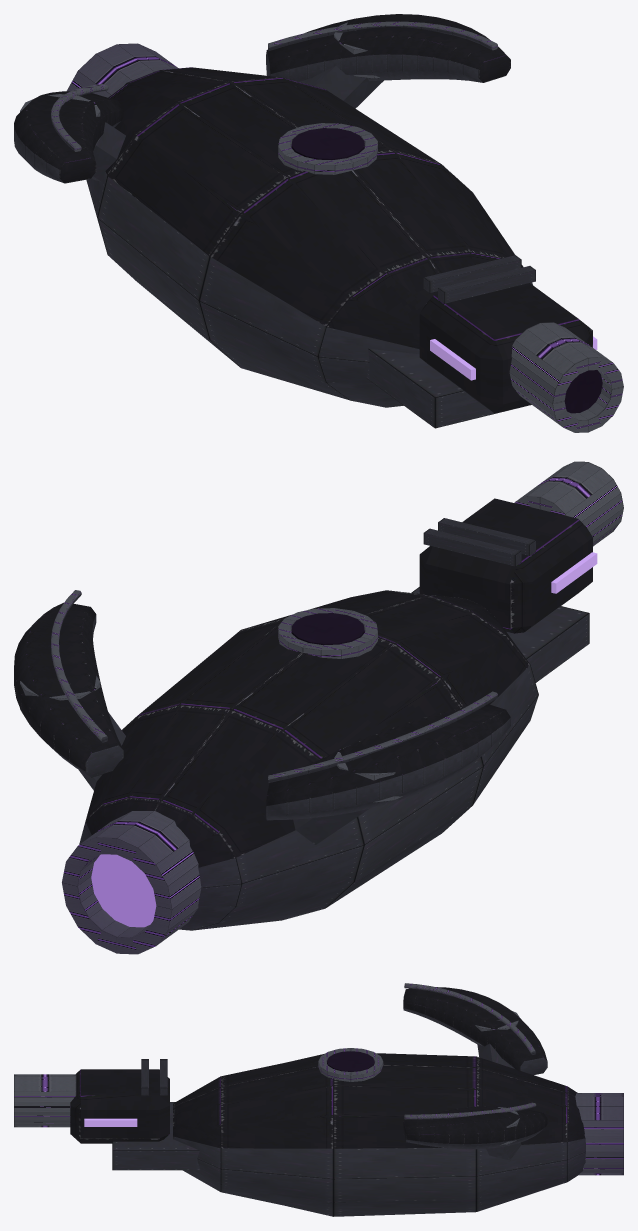
Rendered from pioneer-eris-l01-laser.glb.
3 renders of one model, top to bottom at view 1: azimuth 30°, elevation 25°; view 2: azimuth 150°, elevation 25°; view 3: azimuth 270°, elevation 25°, orthographic. The views are drawn at different scales.
Visible parts, largest first — view 1: Drone; view 2: Drone; view 3: Drone.
Part boxes in pixels (x1,y1,x2,y2): Drone: [14, 14, 623, 432]; Drone: [14, 461, 623, 954]; Drone: [14, 983, 623, 1216].
Size of the model in its own units: 0.7866 by 0.3952 by 1.41.
Materials: 3 (3 with a texture image).
